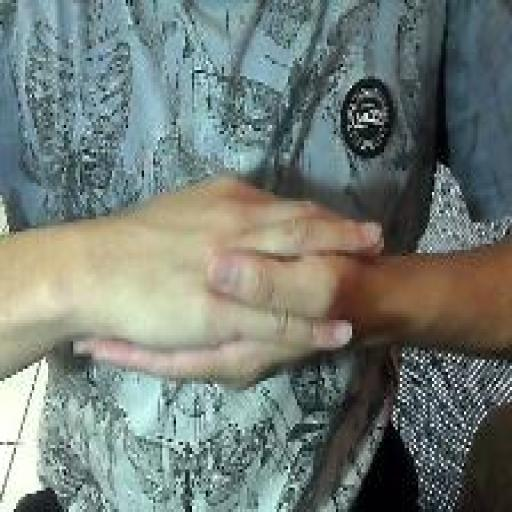Saru -monkey-: (65, 168, 390, 399)
